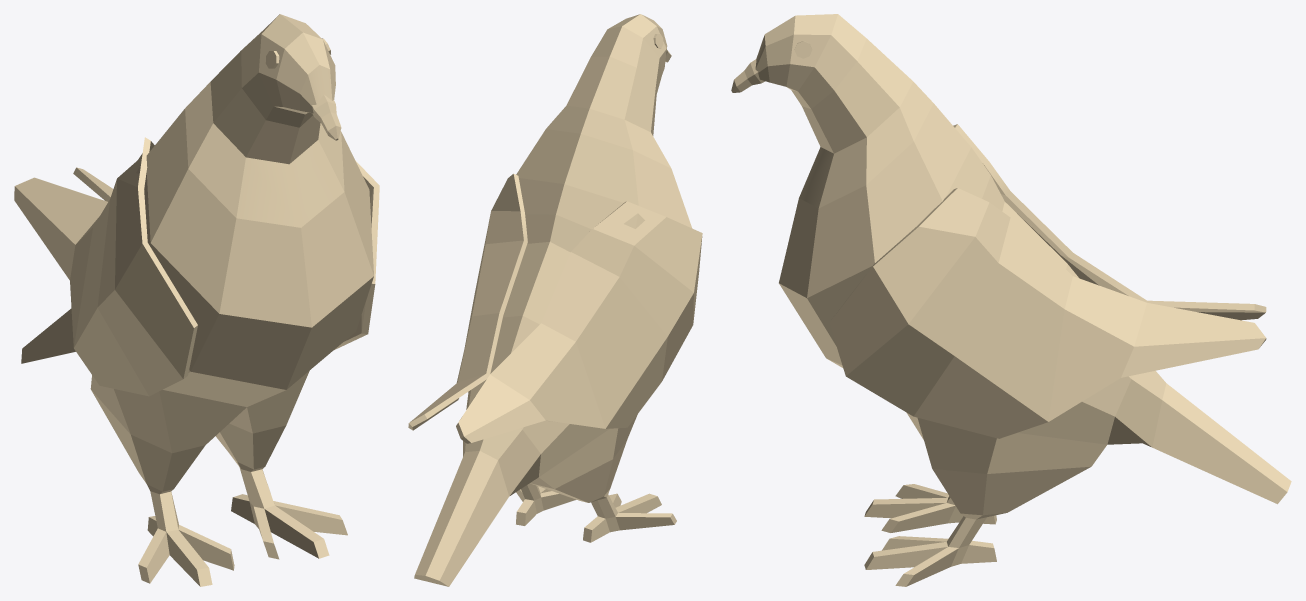
Rendered from peace.glb.
The picture shows the model from 3 angles, left to right: view 1: azimuth 30°, elevation 25°; view 2: azimuth 150°, elevation 25°; view 3: azimuth 270°, elevation 25°; orthographic projection. The views are drawn at different scales.
Visible parts, largest first — view 1: Geo_Dove; view 2: Geo_Dove; view 3: Geo_Dove.
Boxes of the visible parts, box(x1,y1,x2,y2) form: Geo_Dove: box(14, 14, 379, 586); Geo_Dove: box(408, 14, 702, 586); Geo_Dove: box(731, 14, 1291, 586).
Size of the model in its own units: 0.4682 by 1 by 0.9638.
